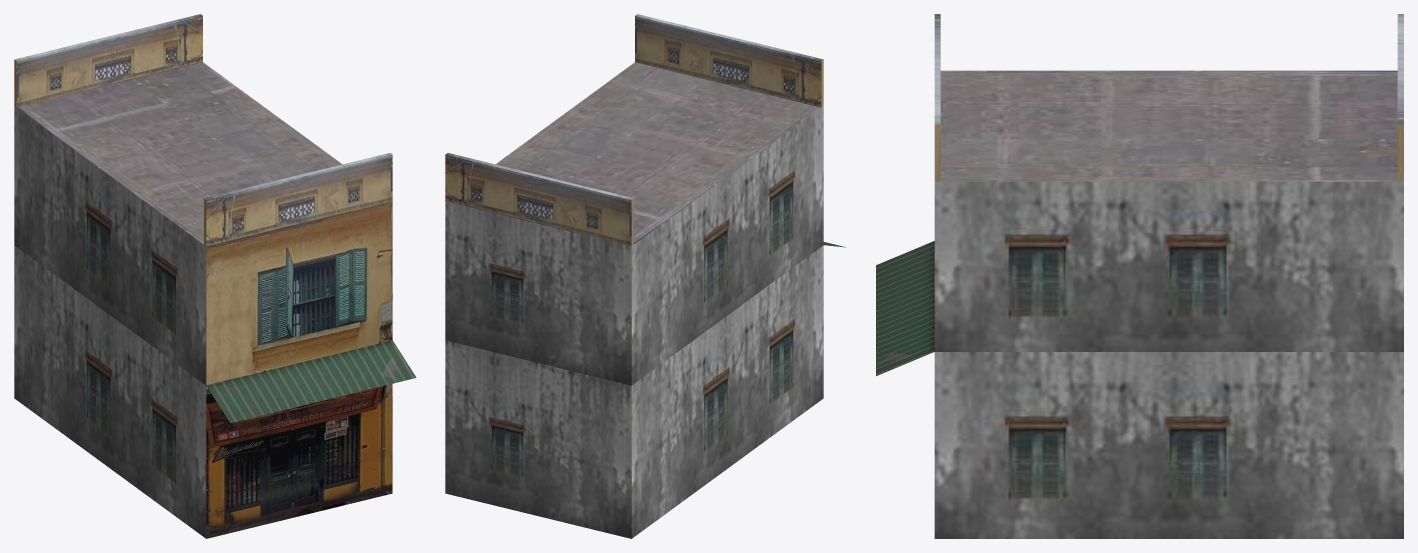
3 views of the same model, side by side, from view 1: azimuth 30°, elevation 25°; view 2: azimuth 150°, elevation 25°; view 3: azimuth 270°, elevation 25° (orthographic). The views are drawn at different scales.
Visible parts, largest first — view 1: HN982_PraguePub; view 2: HN982_PraguePub; view 3: HN982_PraguePub.
Boxes of the visible parts, x1,y1,x2,y2 form: HN982_PraguePub: [14, 14, 416, 538]; HN982_PraguePub: [445, 14, 846, 538]; HN982_PraguePub: [876, 14, 1403, 538].
Bounding box in the file's own units: 4.2 × 7.3 × 8.44.
1 material, 1 textured.
